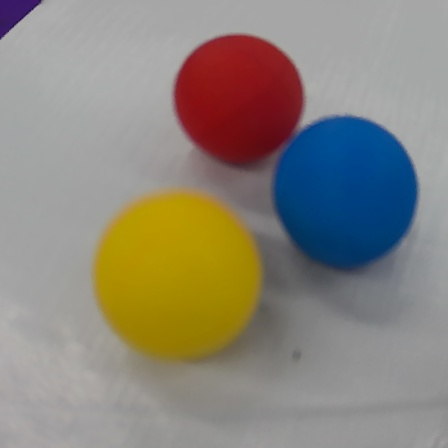blue: (267, 118, 418, 275)
red: (178, 30, 305, 170)
yellow: (89, 187, 267, 360)
